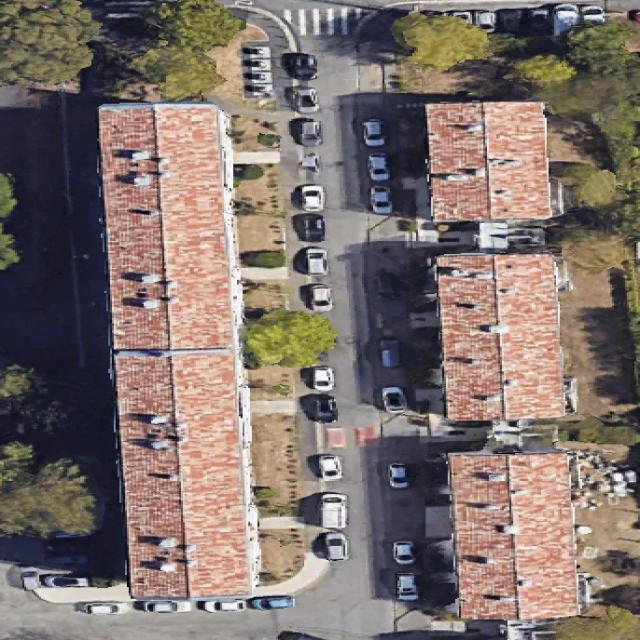immeuble: (96, 97, 259, 605), (449, 446, 579, 622), (438, 250, 564, 420), (427, 100, 549, 221)
